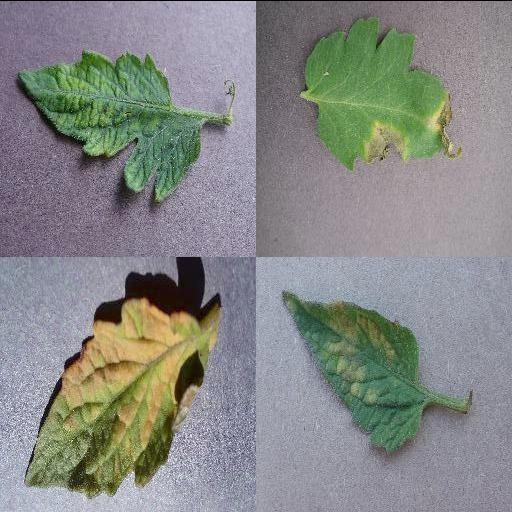Late Blight: (305, 14, 469, 170)
Leaf Mold: (23, 298, 223, 498), (279, 290, 421, 453)
Mosaic Virus: (17, 50, 199, 204)
